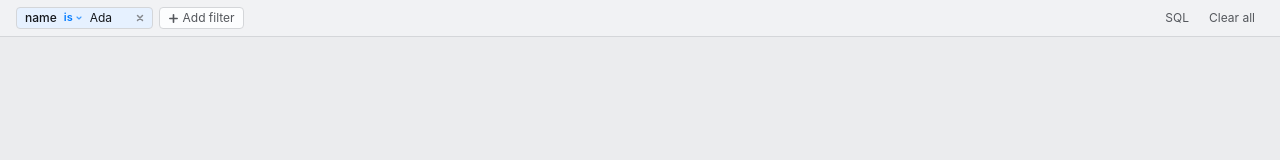
FilterBar SQL preview freshness › confirms a successful copy
Click the button "SQL": x=1177, y=18 x1=1156 y1=7 x2=1198 y2=29
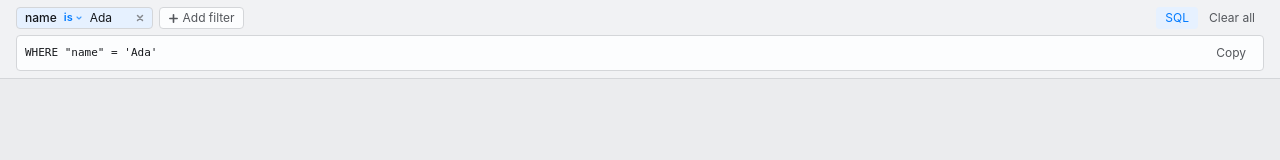
Now the text "WHERE \"name\" = 'Ada'" is shown, box x1=25 y1=46 x2=158 y2=59
Click the button "Copy": x=1231, y=53 x1=1207 y1=42 x2=1255 y2=64
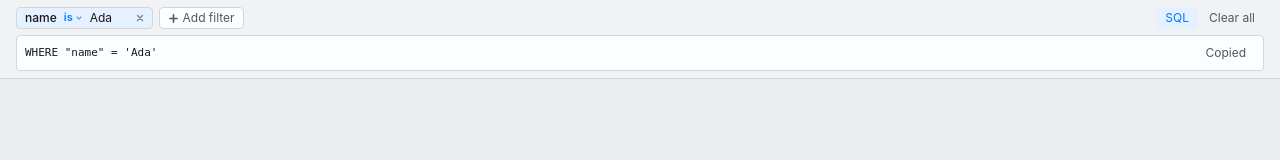
Now the button "Copied" is shown, box x1=1196 y1=42 x2=1255 y2=64
